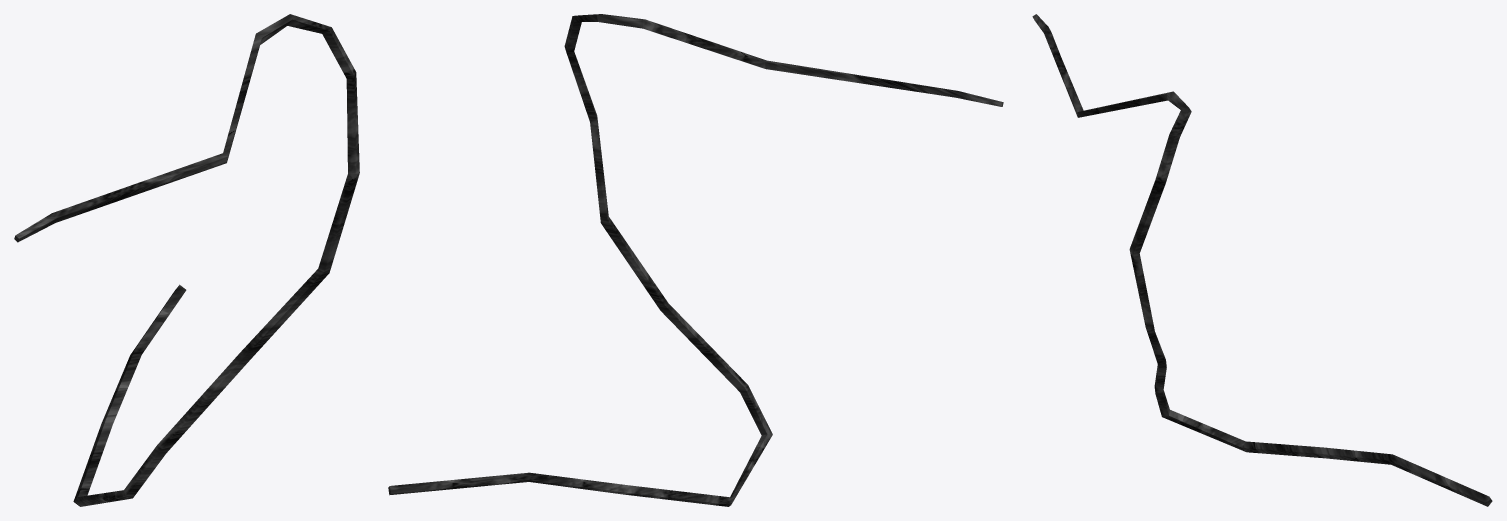
The model's file is SnowCreatureB_3.gltf.
3 views of the same model, side by side, from view 1: azimuth 30°, elevation 25°; view 2: azimuth 150°, elevation 25°; view 3: azimuth 270°, elevation 25° (orthographic). The views are drawn at different scales.
Visible parts, largest first — view 1: SnowCreatureB_3; view 2: SnowCreatureB_3; view 3: SnowCreatureB_3.
Boxes of the visible parts, <box> form: SnowCreatureB_3: <box>14,14,359,506</box>; SnowCreatureB_3: <box>388,14,1003,506</box>; SnowCreatureB_3: <box>1032,14,1492,506</box>.
Size of the model in its own units: 11.52 by 12.33 by 12.19.
1 material, 1 textured.
